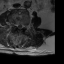CCS_normal: (18, 21, 21, 32)
LFS_normal: (23, 22, 26, 29)
LLS_normal: (21, 21, 23, 30)
RFS_stenosis: (14, 21, 16, 28)
RLS_normal: (16, 21, 18, 29)
